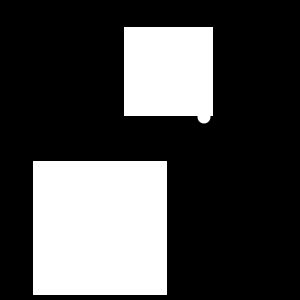circle: (33, 161, 167, 295), (124, 27, 213, 116)
rectangle: (198, 110, 210, 124)
